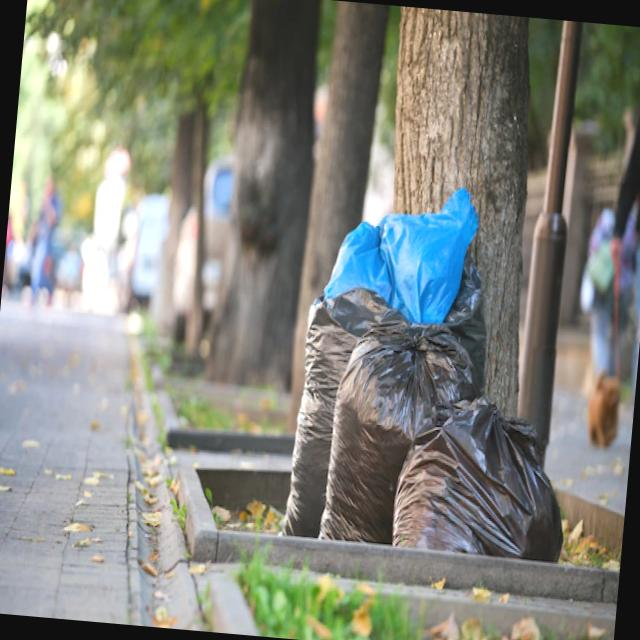garbage: (274, 182, 626, 600)
